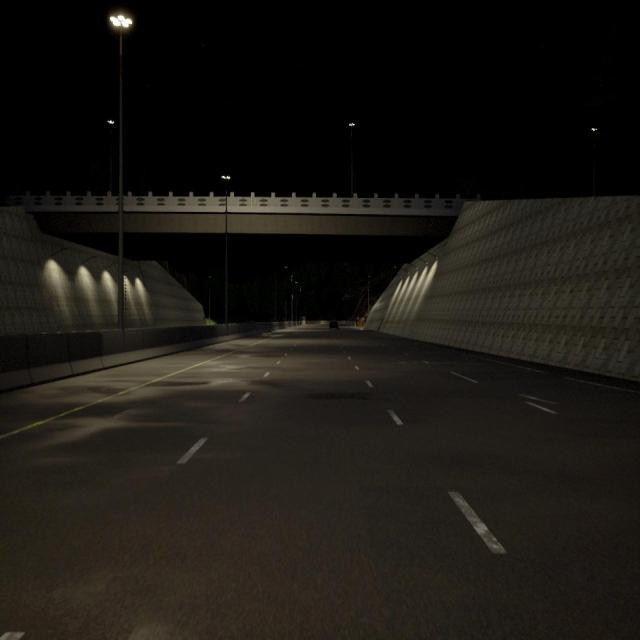Traffic_Signs: (357, 317, 359, 320)
Vehicle: (329, 320, 339, 329)
